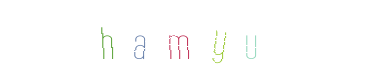A: (119, 0, 199, 80)
H: (100, 0, 180, 80)
M: (138, 0, 218, 80)
U: (147, 0, 227, 80)
Y: (143, 0, 223, 80)
